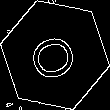O_E: (25, 26, 85, 84)
